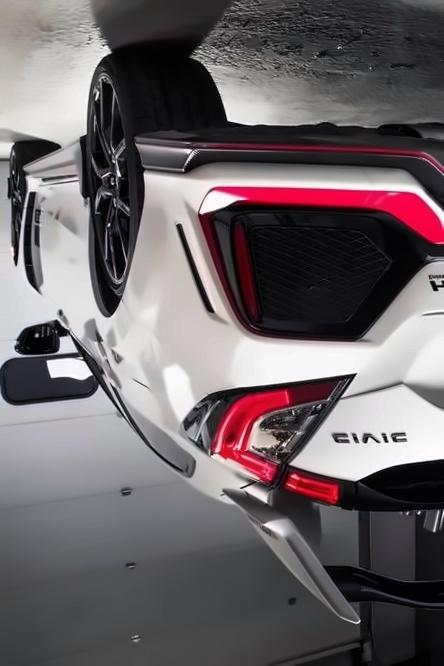Car boot: (257, 304, 444, 519)
Rear bumper: (126, 124, 444, 351)
Rear light - -R-: (176, 360, 382, 515)
Side bumper - -R-: (10, 124, 109, 217)
Side mirror - -R-: (9, 312, 72, 362)
